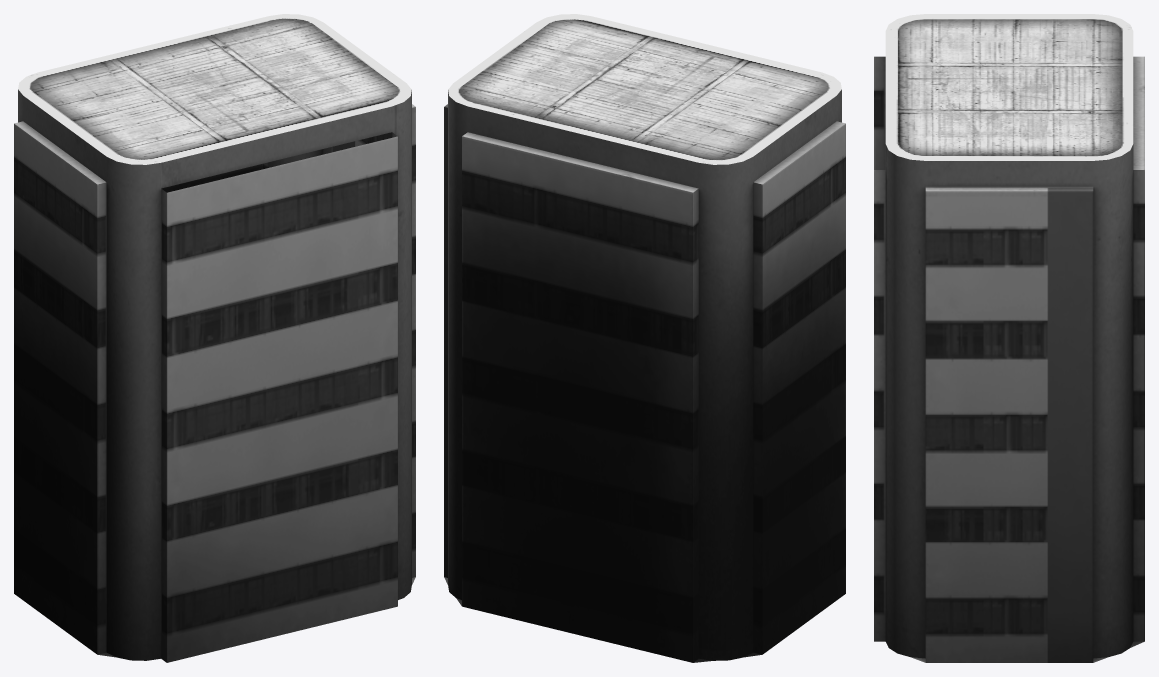
The model's file is SmallBld3.DAE.
The picture shows the model from 3 angles, left to right: view 1: azimuth 30°, elevation 25°; view 2: azimuth 150°, elevation 25°; view 3: azimuth 270°, elevation 25°; orthographic projection.
Parts seen in each view (by area): view 1: SmallBld3-Pivot; view 2: SmallBld3-Pivot; view 3: SmallBld3-Pivot.
Part boxes in pixels (left/top/right/bottom): SmallBld3-Pivot: left=14, top=14, right=415, bottom=662; SmallBld3-Pivot: left=444, top=14, right=845, bottom=662; SmallBld3-Pivot: left=874, top=14, right=1144, bottom=662.
Size of the model in its own units: 26.91 by 19.75 by 40.04.
